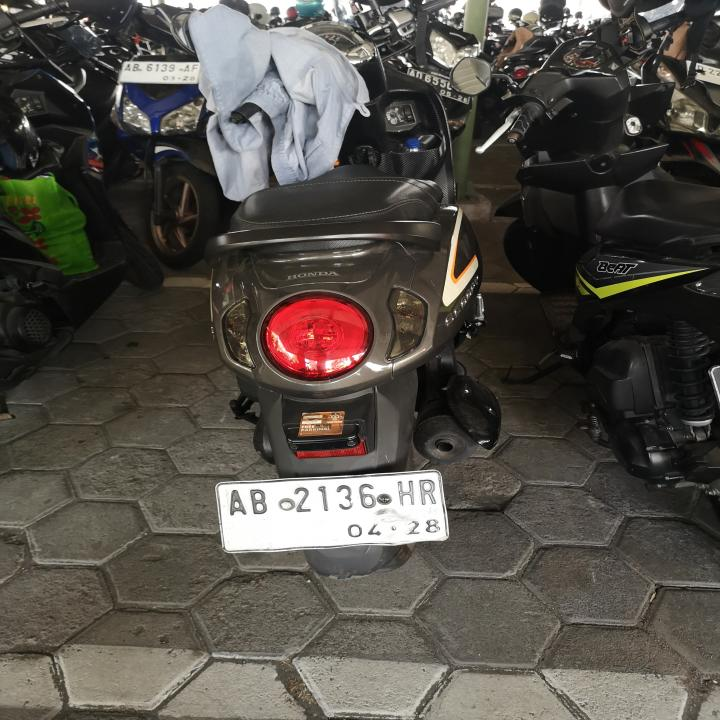plate: (214, 465, 455, 558), (405, 66, 471, 106), (118, 60, 201, 85)
